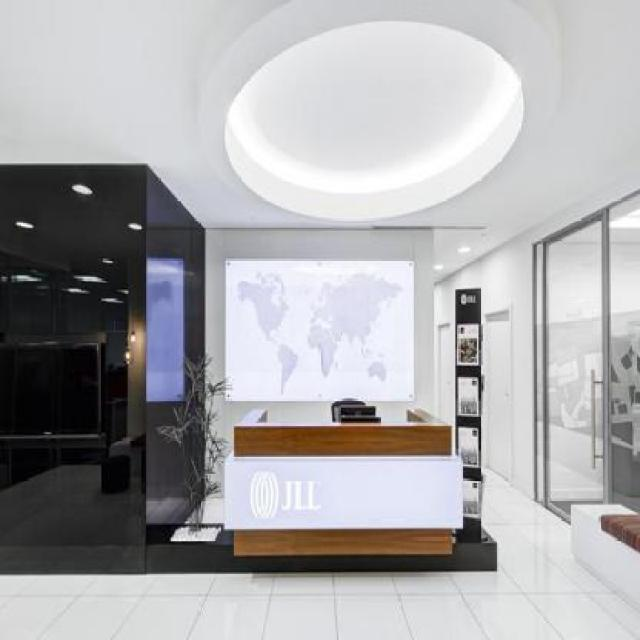frontdesk: (217, 399, 465, 566)
